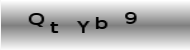9: (124, 11, 136, 24)
Q: (28, 12, 44, 28)
Y: (75, 19, 90, 35)
b: (94, 16, 107, 29)
t: (49, 21, 59, 33)
